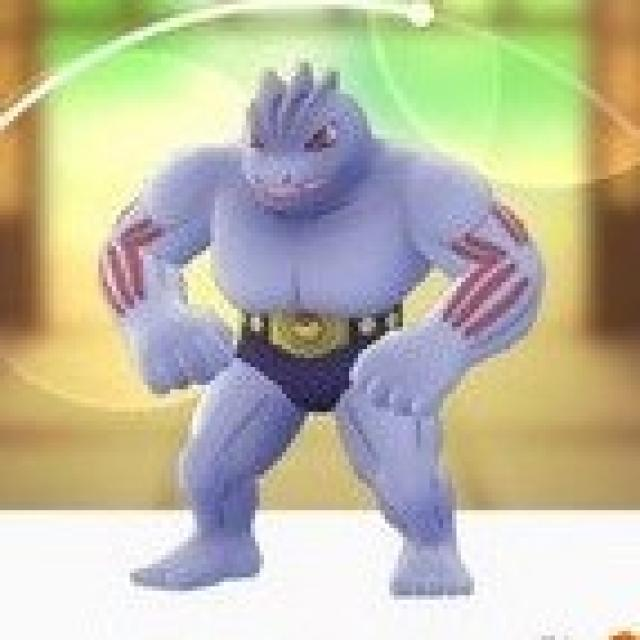Machoke: (121, 68, 535, 592)
